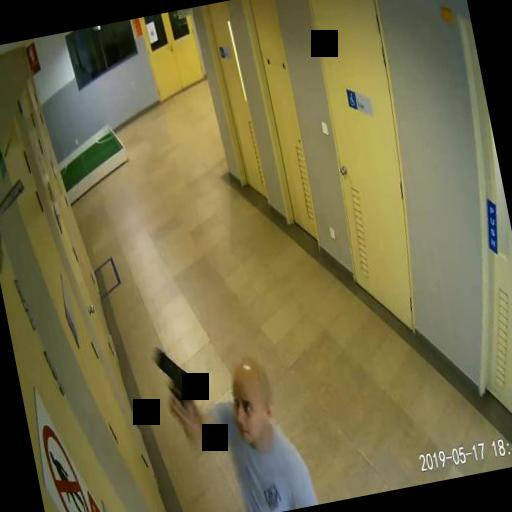Handgun: (151, 342, 200, 416)
